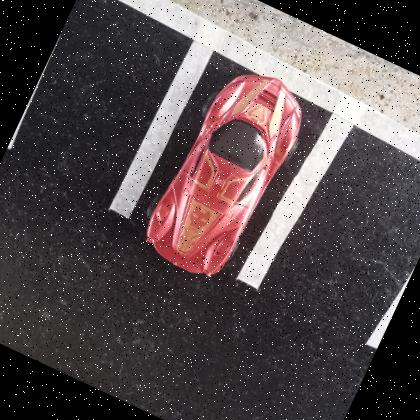Car: (146, 72, 303, 275)
